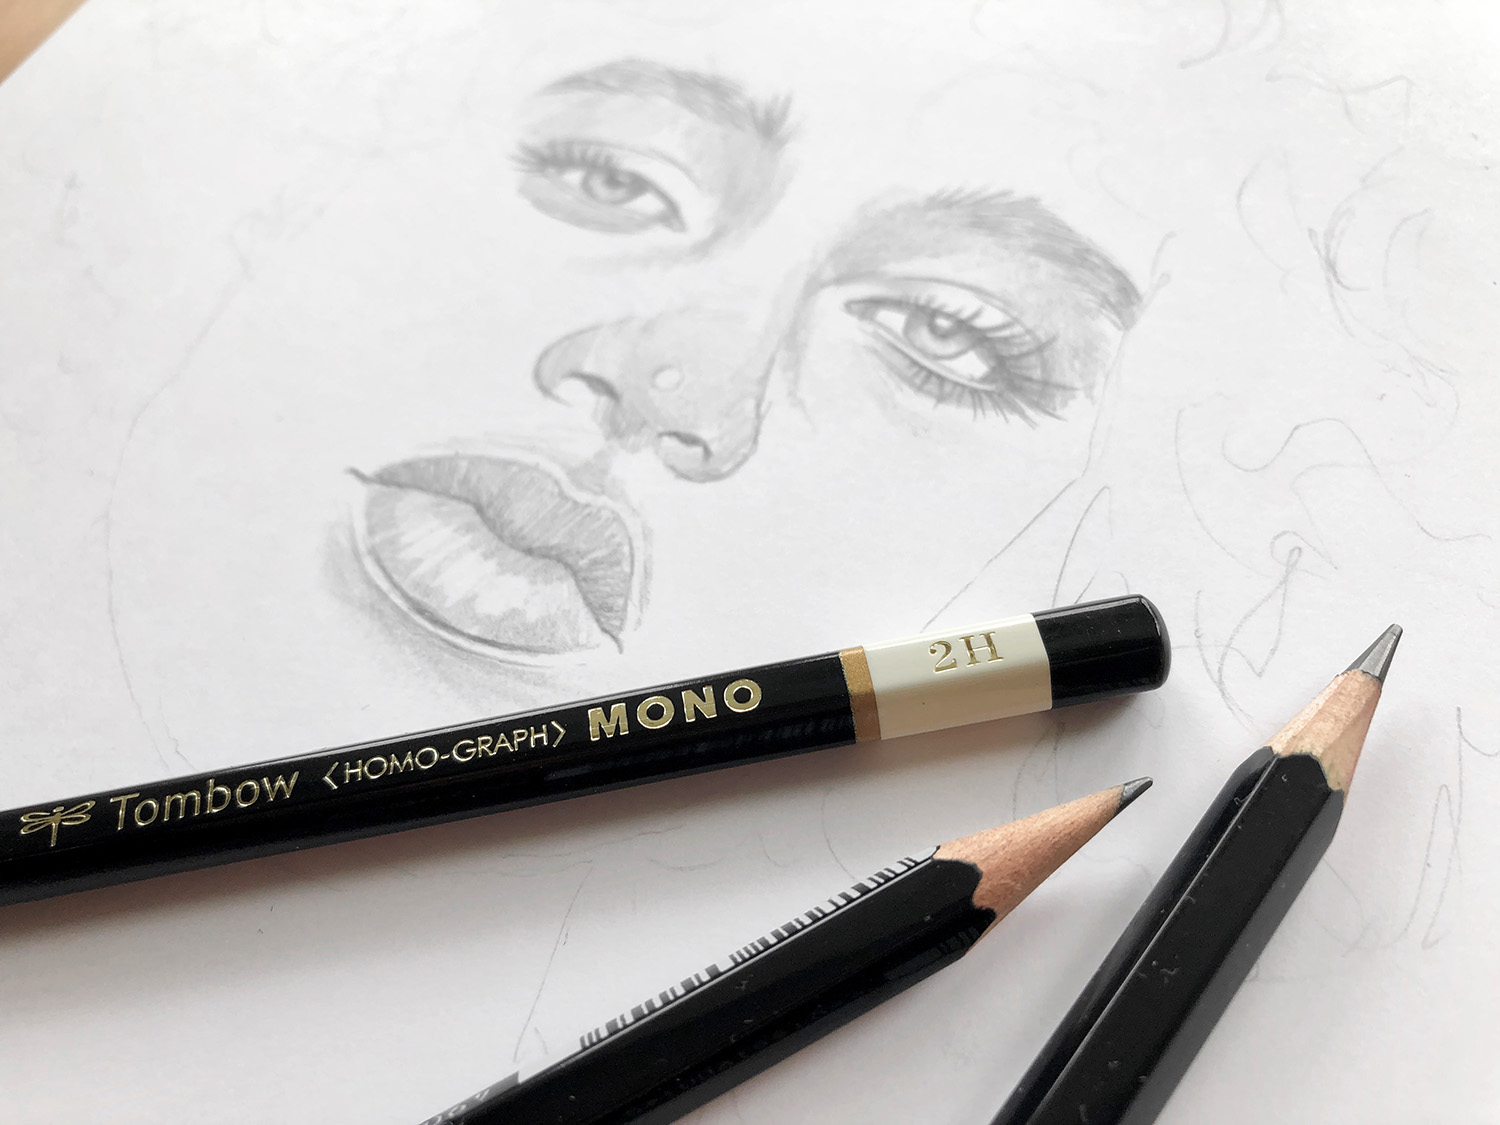pencil: (1, 506, 1217, 977)
